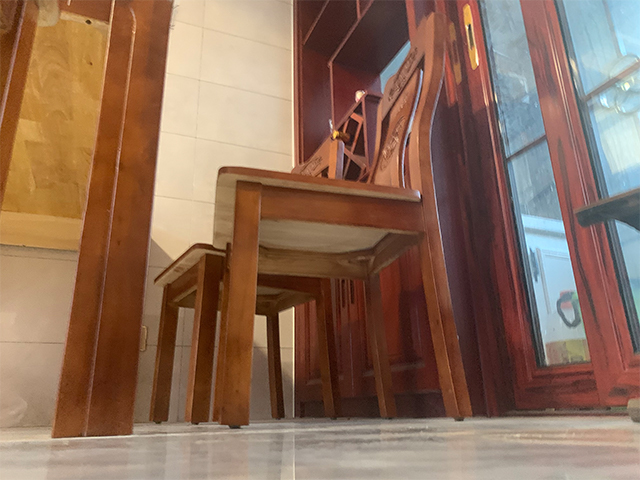stool: (211, 11, 474, 430), (147, 130, 347, 425)
